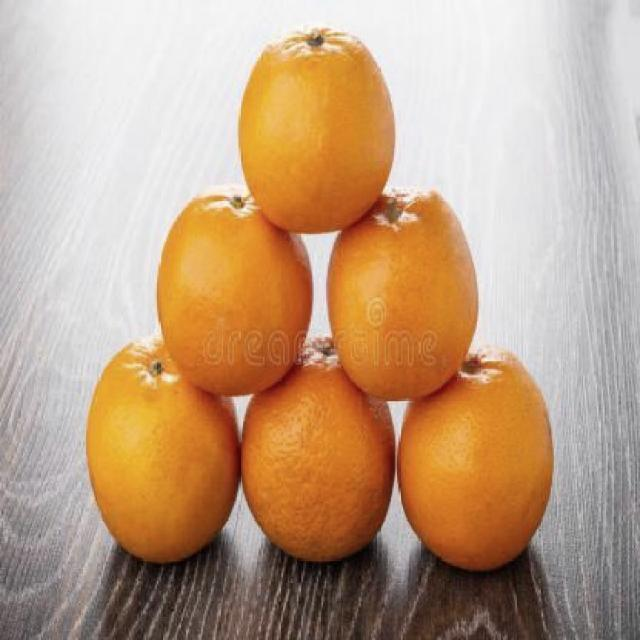Jeruk Sudah Matang: (396, 343, 556, 566), (88, 334, 244, 562), (245, 336, 398, 556), (240, 28, 394, 240), (158, 192, 311, 402), (327, 187, 476, 395)
